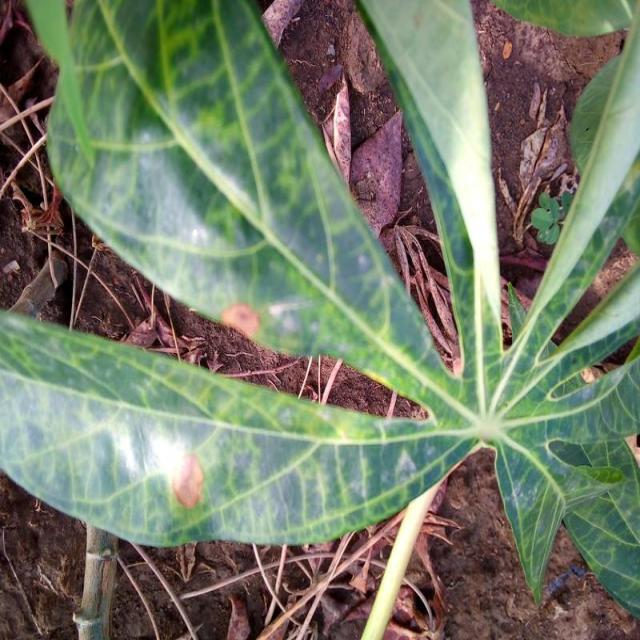cassava leaf: (1, 0, 638, 625)
